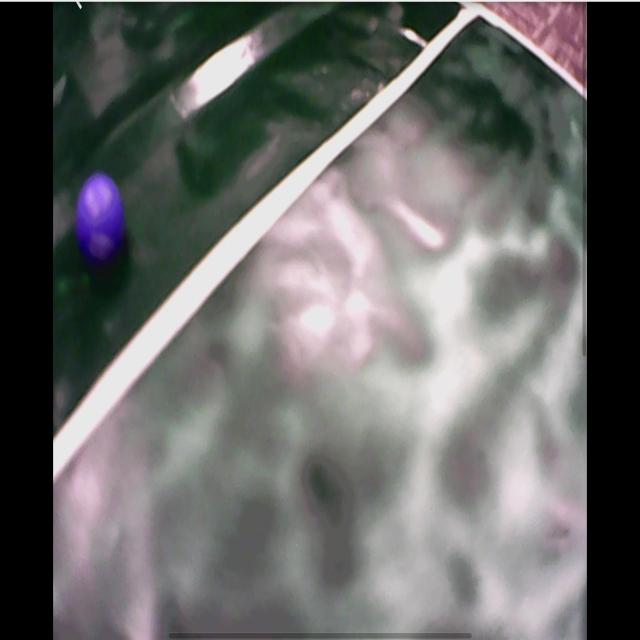ball: (78, 177, 126, 258)
